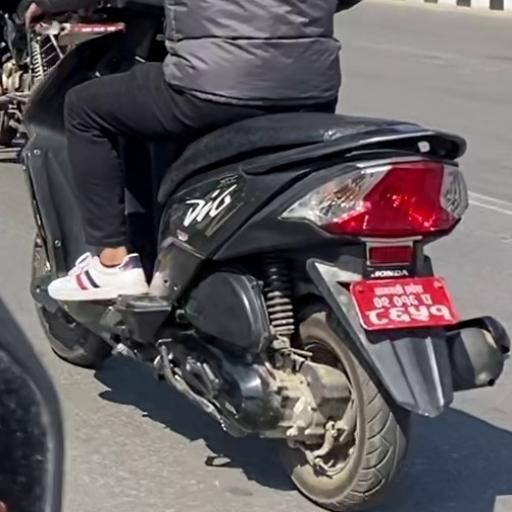license_plate: (348, 274, 459, 337)
